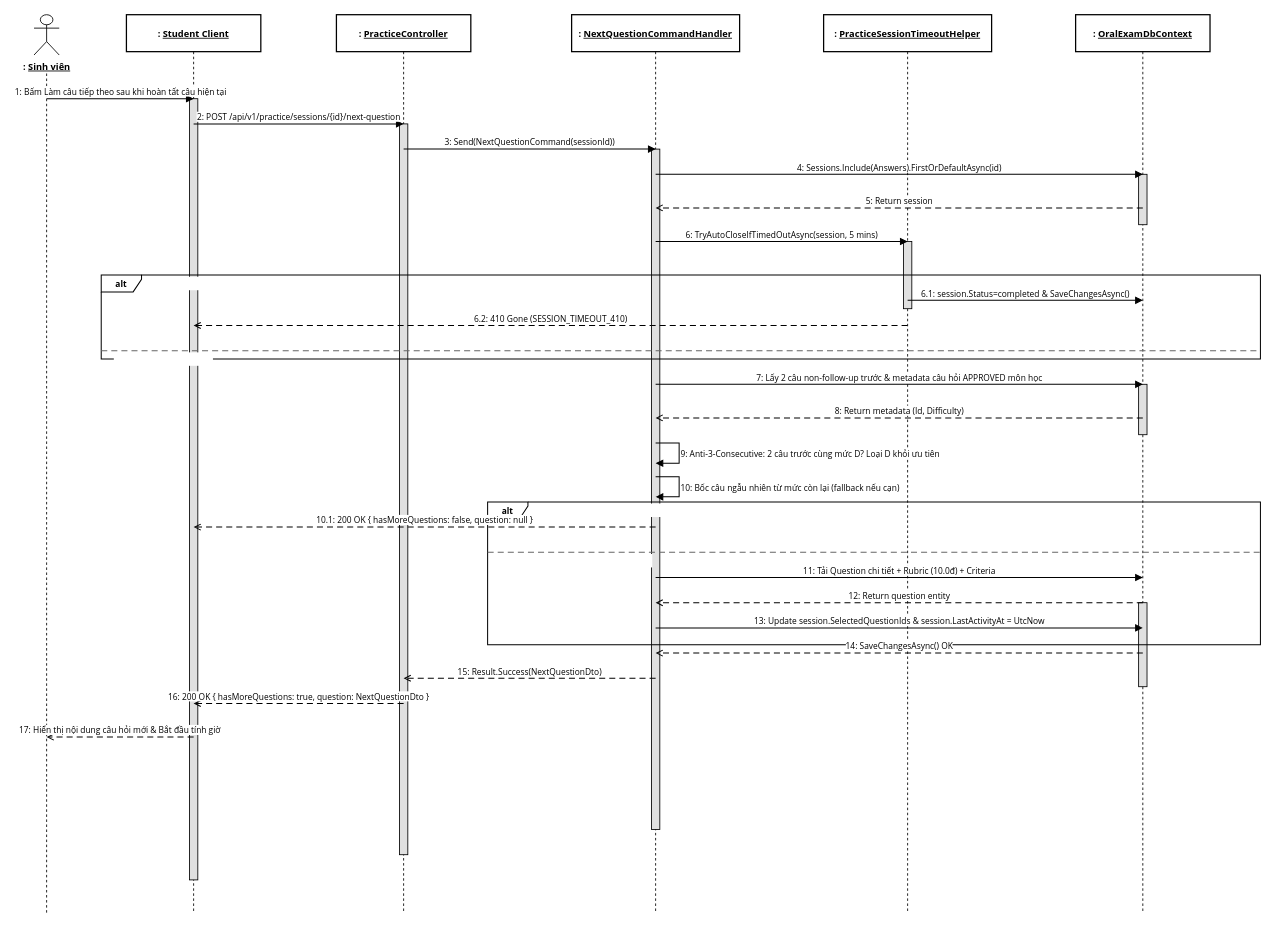
This 1276x930 diagram has some shape labels left out. The shapes that lost their labels are listed below. From the top down, each one's centre as x and y in pixels, then its label:
At pixel 267 283: "[Inactivity > 5 mins - Timeout Exceeded]".
At pixel 163 358: "[Session Active]".
At pixel 609 510: "[Kho Đề Cạn 100% Câu Hỏi]".
At pixel 576 560: "[Đã Bốc Được Câu Hỏi Mới]".
